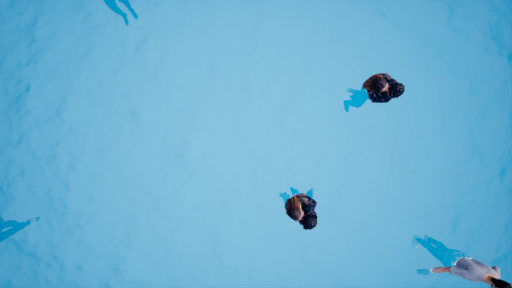person: (408, 232, 504, 288), (343, 70, 408, 116), (280, 186, 322, 232)
